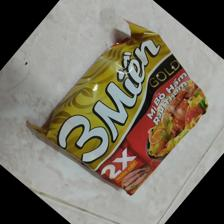3mien: (27, 18, 209, 196)
